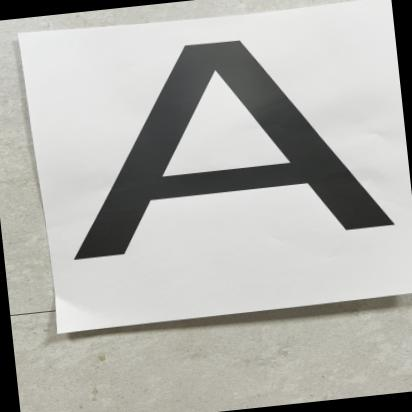seat: (42, 8, 412, 271)
